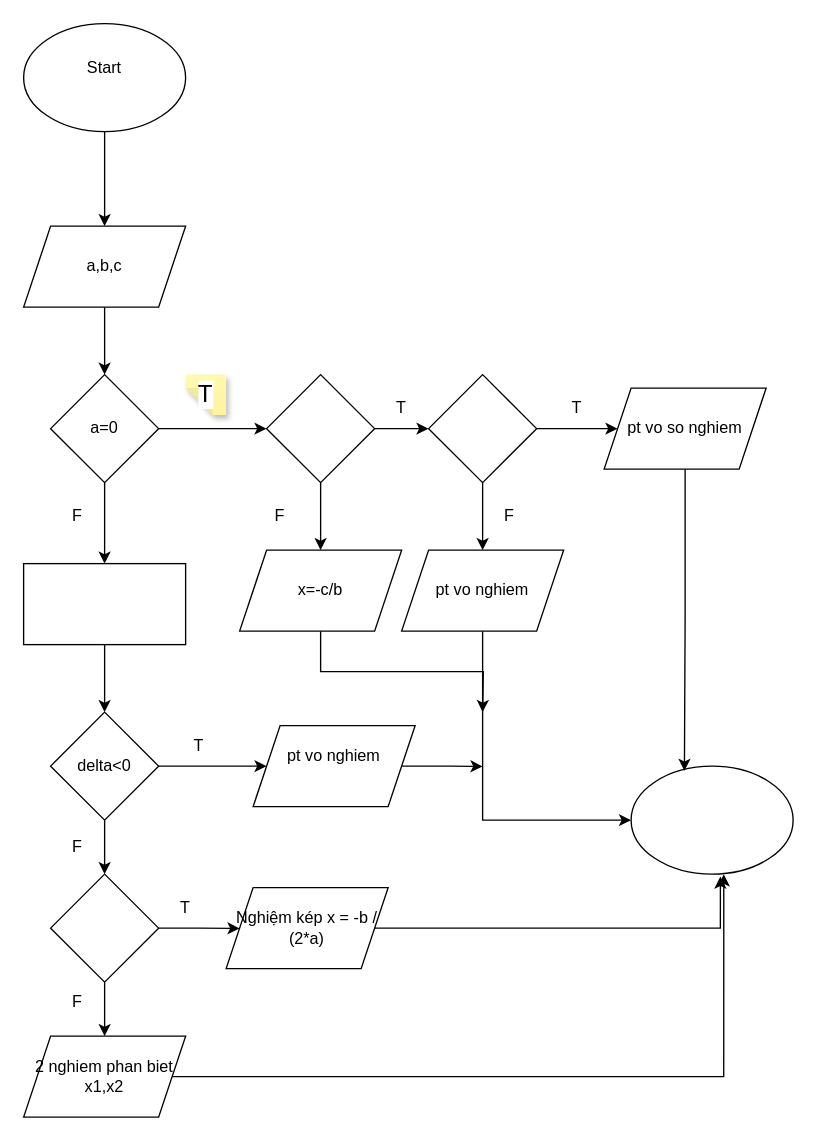
Some shapes in this 817 by 1141 pixel diagram are drawn without their labels. The shapes that lost their labels are listed below. From the top down, each one's centre as x and y in pixels, then its label:
At (x=320, y=428): "b=0".
At (x=482, y=428): "c=0".
At (x=104, y=603): "delta = b*b - 4*a*c".
At (x=711, y=819): "END".
At (x=104, y=927): "delta=0".
